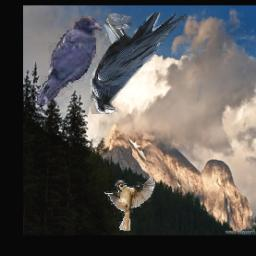Crow: (90, 13, 187, 115), (37, 17, 102, 106)
Sparrow: (104, 177, 154, 232)
